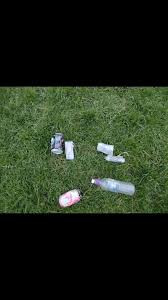metal: (52, 186, 88, 212), (47, 132, 65, 155), (64, 138, 79, 161)
paper: (93, 140, 118, 156), (101, 153, 130, 161)
plastic: (90, 175, 140, 198)
